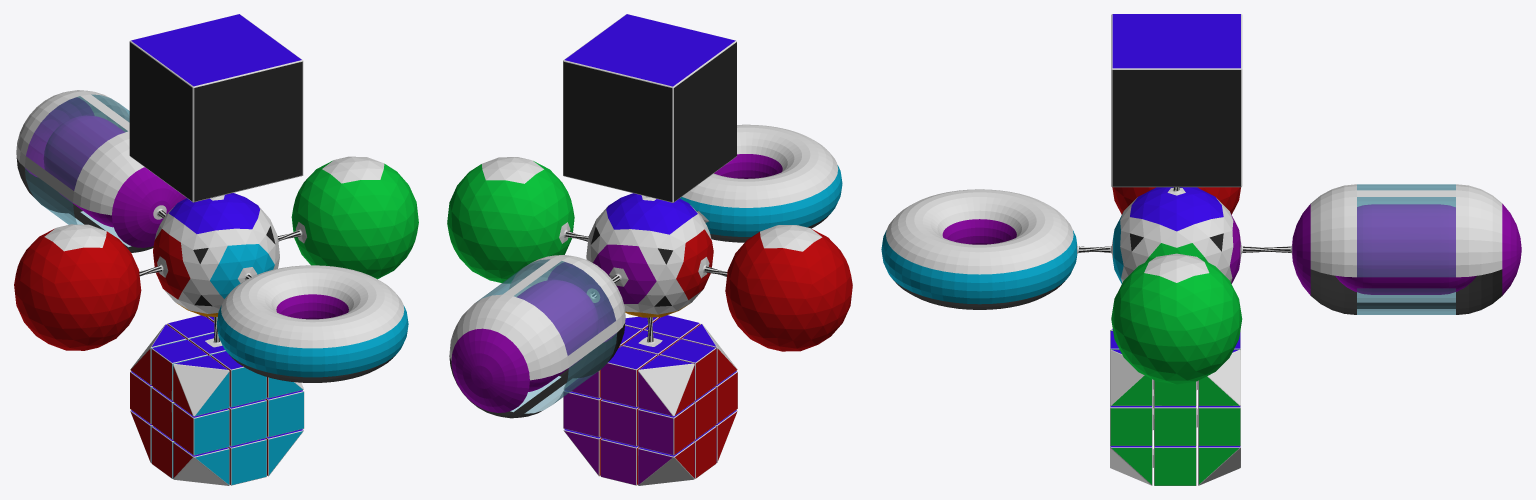
The model's file is Level.glb.
3 views of the same model, side by side, from view 1: azimuth 30°, elevation 25°; view 2: azimuth 150°, elevation 25°; view 3: azimuth 270°, elevation 25° (orthographic). The views are drawn at different scales.
Parts seen in each view (by area): view 1: Pool, Maze, Torus, Observatorium, Orbitorium Room, Mad Gizmo, Center, Observatorium floor, Bridges; view 2: Pool, Maze, Observatorium, Orbitorium Room, Torus, Mad Gizmo, Center, Observatorium floor, Bridges; view 3: Observatorium, Pool, Torus, Maze, Mad Gizmo, Observatorium floor, Center, Orbitorium Room.
Boxes of the visible parts, x1=… form: Pool: x1=129, y1=14, x2=303, y2=202; Maze: x1=130, y1=315, x2=304, y2=485; Torus: x1=216, y1=265, x2=408, y2=382; Observatorium: x1=16, y1=90, x2=186, y2=252; Orbitorium Room: x1=14, y1=224, x2=141, y2=350; Mad Gizmo: x1=291, y1=156, x2=418, y2=279; Center: x1=153, y1=193, x2=279, y2=316; Observatorium floor: x1=43, y1=115, x2=124, y2=227; Bridges: x1=139, y1=210, x2=300, y2=342; Pool: x1=563, y1=14, x2=736, y2=202; Maze: x1=563, y1=315, x2=737, y2=485; Observatorium: x1=449, y1=255, x2=625, y2=418; Orbitorium Room: x1=725, y1=225, x2=852, y2=351; Torus: x1=680, y1=124, x2=842, y2=242; Mad Gizmo: x1=447, y1=157, x2=574, y2=283; Center: x1=586, y1=193, x2=713, y2=317; Observatorium floor: x1=517, y1=280, x2=598, y2=391; Bridges: x1=565, y1=231, x2=727, y2=341; Observatorium: x1=1290, y1=184, x2=1521, y2=314; Pool: x1=1111, y1=14, x2=1242, y2=187; Torus: x1=881, y1=189, x2=1078, y2=309; Maze: x1=1110, y1=329, x2=1240, y2=485; Mad Gizmo: x1=1111, y1=253, x2=1242, y2=384; Observatorium floor: x1=1335, y1=204, x2=1476, y2=294; Center: x1=1110, y1=187, x2=1242, y2=283; Orbitorium Room: x1=1112, y1=187, x2=1240, y2=214.
Size of what is drawn, in the model's own units: 701 by 703 by 977.
